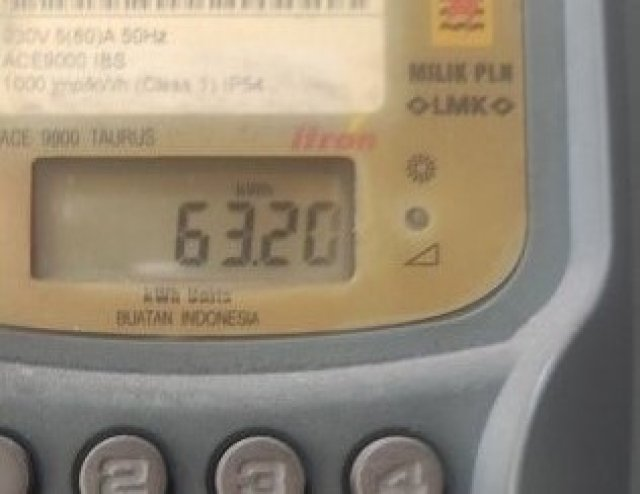box: (33, 158, 352, 281)
